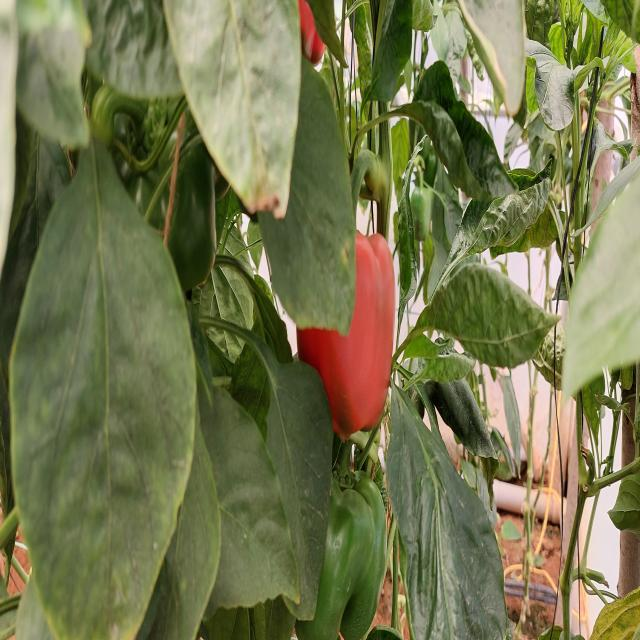BrownishRed--Can-be-Harvested: (296, 221, 402, 439)
Green--Not-ready-to-harvest: (307, 472, 395, 634)
